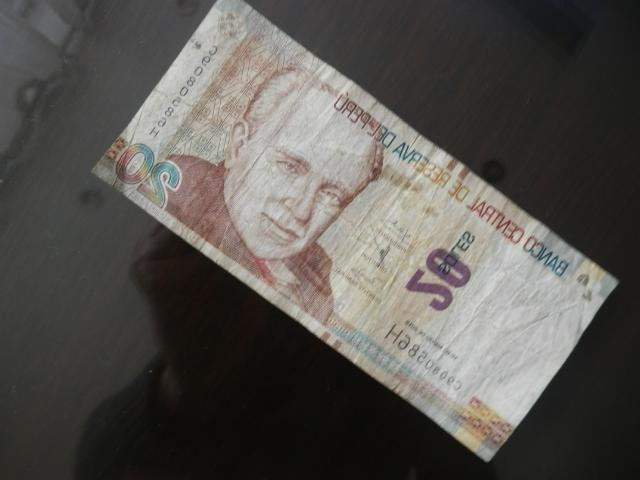B20: (92, 1, 619, 462)
